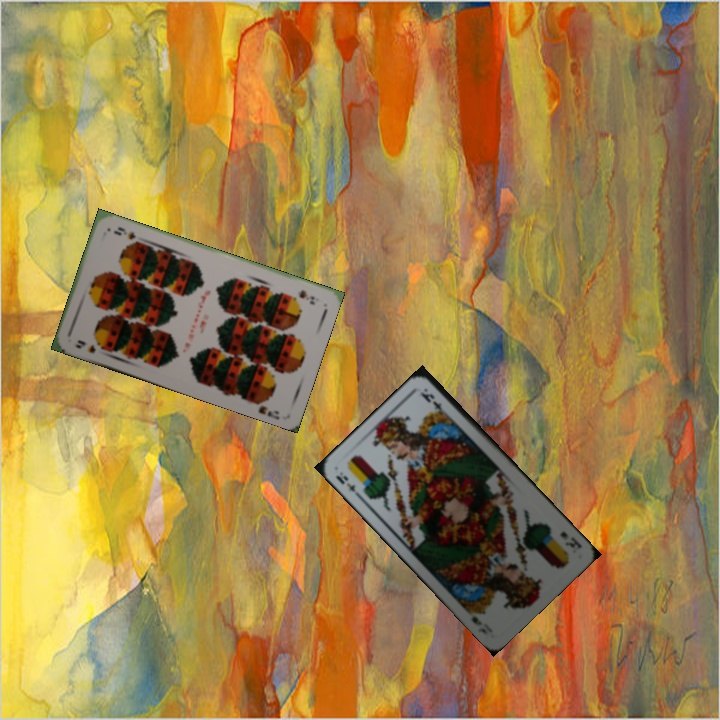EK: (331, 468, 364, 501), (556, 527, 584, 552)
S9: (71, 336, 109, 356), (295, 286, 318, 306)
